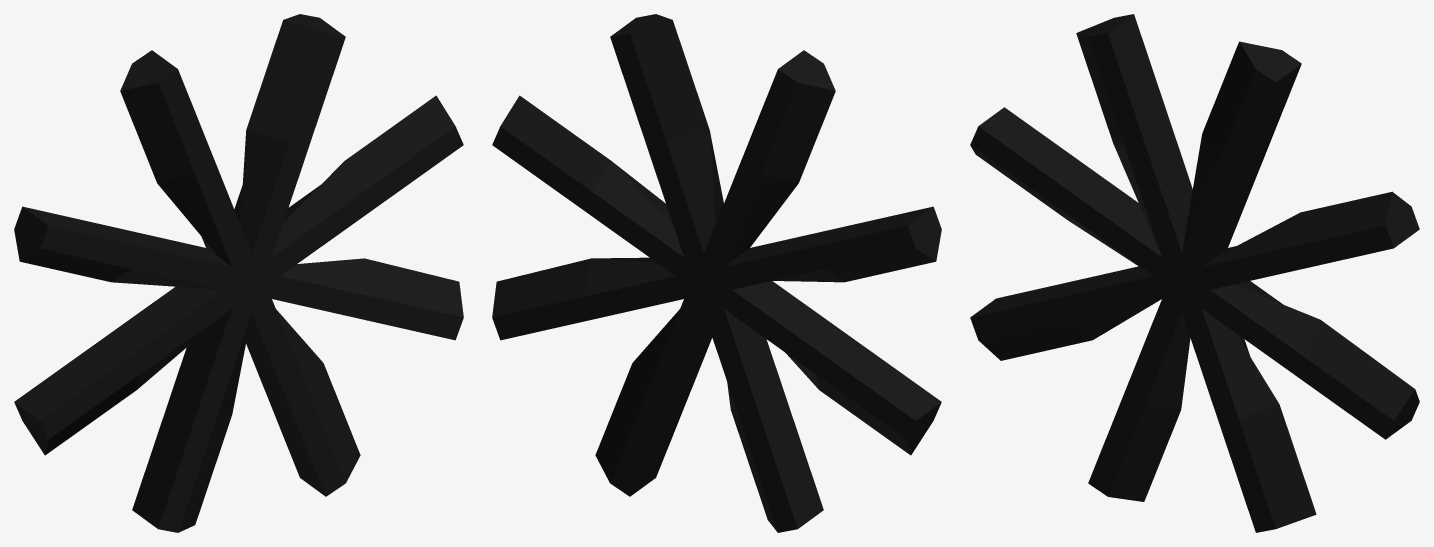
File: extractor_2.obj
3 renders of one model, left to right at view 1: azimuth 30°, elevation 25°; view 2: azimuth 150°, elevation 25°; view 3: azimuth 330°, elevation 25°, orthographic.
Parts seen in each view (by area): view 1: Cilindro.020_Cilindro.057; view 2: Cilindro.020_Cilindro.057; view 3: Cilindro.020_Cilindro.057.
Part boxes in pixels (left/top/right/bottom): Cilindro.020_Cilindro.057: left=14, top=14, right=463, bottom=532; Cilindro.020_Cilindro.057: left=492, top=14, right=941, bottom=532; Cilindro.020_Cilindro.057: left=970, top=14, right=1419, bottom=532.
Bounding box in the file's own units: 0.7798 × 0.8141 × 0.08.
